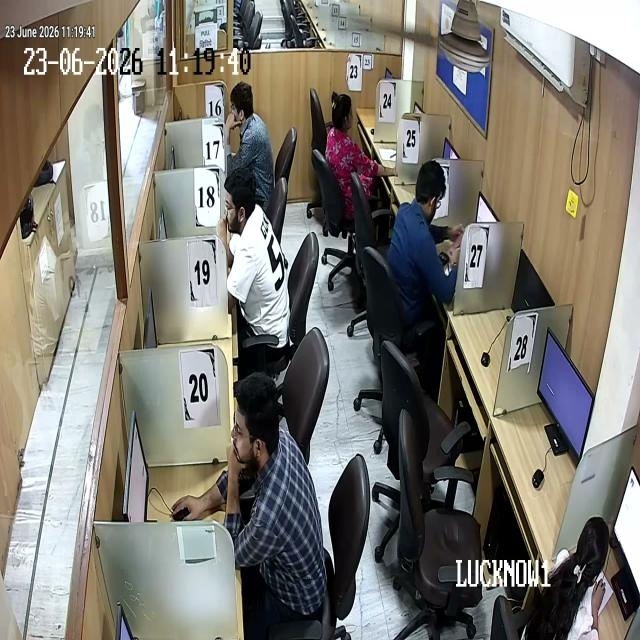phone: (449, 218, 470, 258)
